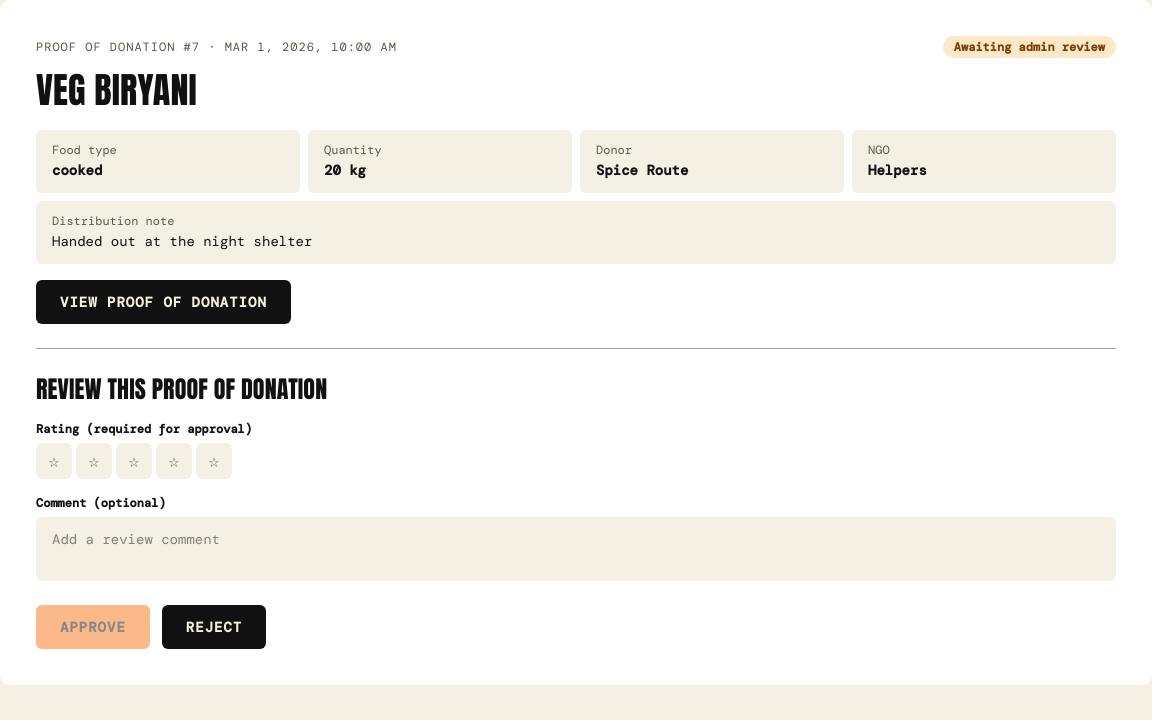
Test: admin ProofCard (proof of donation) › explains a missing file instead of failing silently
This screenshot has width=1152, height=720.
Click the button "View proof of donation": coordinates (163, 302) x1=36 y1=280 x2=291 y2=324
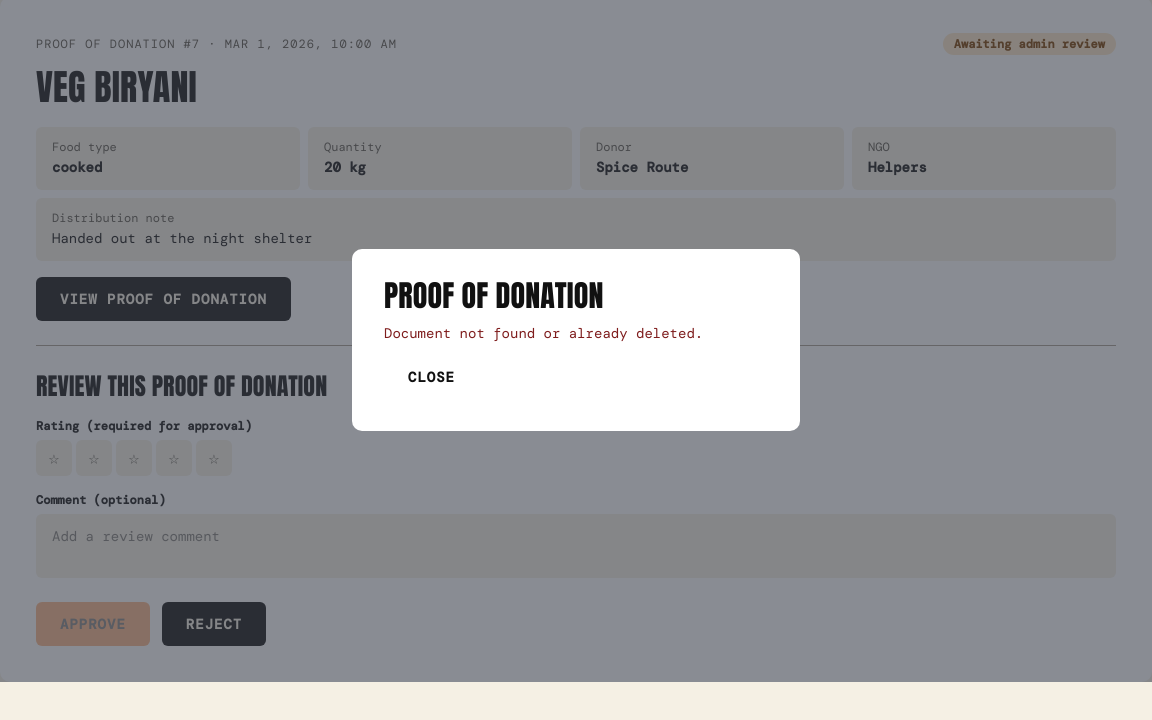
Expected: the text "Document not found or already deleted." is shown, x1=384 y1=324 x2=703 y2=342
